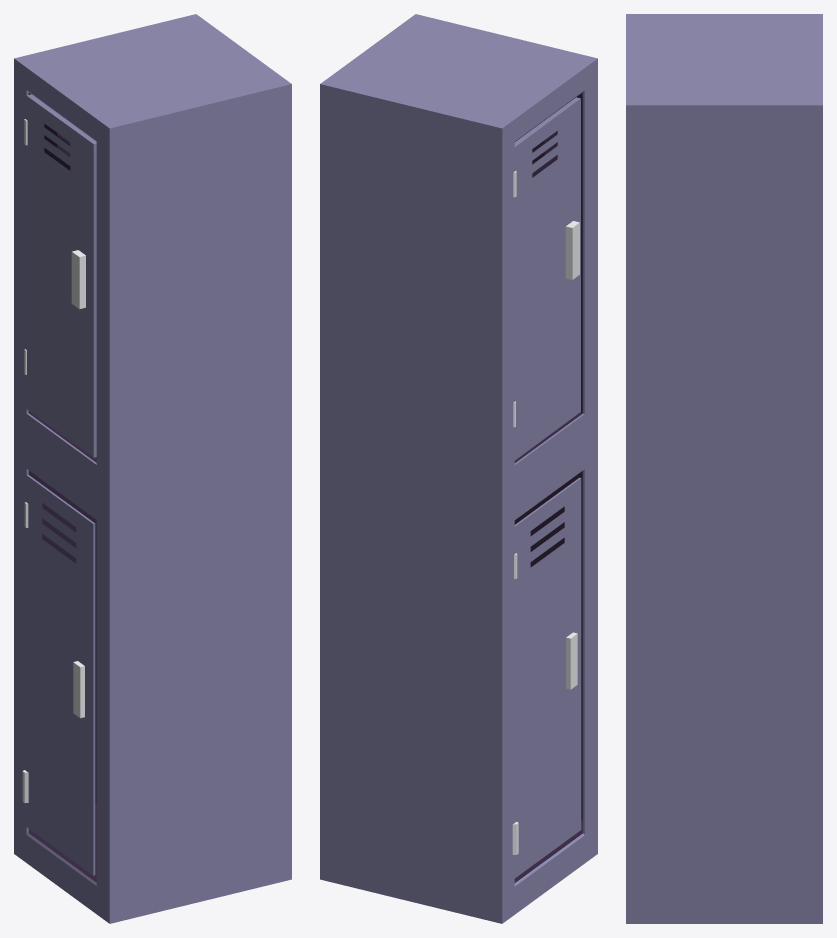
Rendered from armario_fechado.fbx.
3 renders of one model, left to right at view 1: azimuth 30°, elevation 25°; view 2: azimuth 150°, elevation 25°; view 3: azimuth 270°, elevation 25°, orthographic. The views are drawn at different scales.
Visible parts, largest first — view 1: Armário_fechado; view 2: Armário_fechado; view 3: Armário_fechado.
Part boxes in pixels (x1,y1,x2,y2): Armário_fechado: (14,14,291,923); Armário_fechado: (320,14,597,923); Armário_fechado: (626,14,822,923).
Bounding box in the file's own units: 65.35 × 264 × 57.49.
